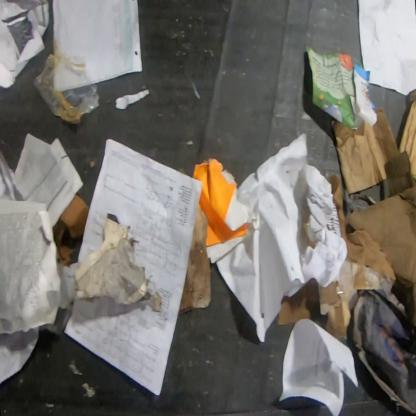cardboard: (345, 151, 416, 328), (72, 218, 163, 314), (330, 106, 400, 196), (52, 193, 90, 268), (398, 100, 415, 182)
rigid_plastic: (33, 52, 100, 126)
